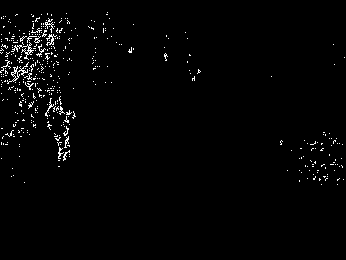person: (44, 96, 71, 163)
